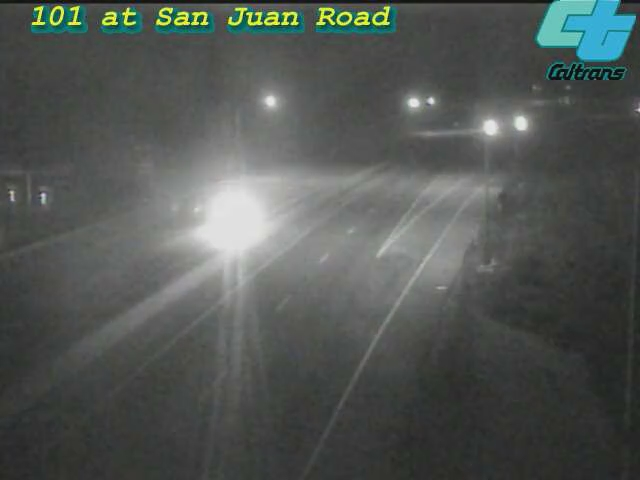vehicle: (190, 175, 270, 255), (462, 103, 512, 153), (494, 99, 544, 149)
